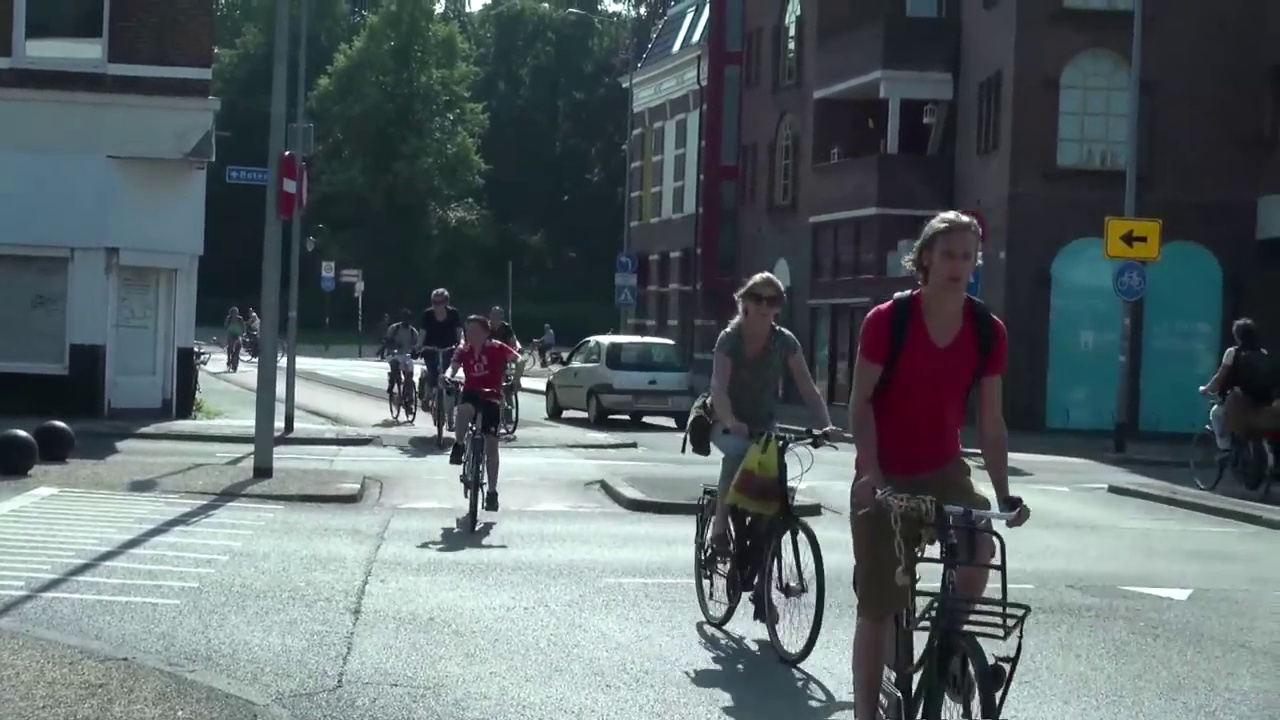cyclist_back: (1186, 314, 1275, 502)
cyclist_front: (866, 212, 1054, 713), (693, 272, 836, 653), (447, 317, 509, 540), (374, 297, 426, 425), (423, 282, 463, 438)
